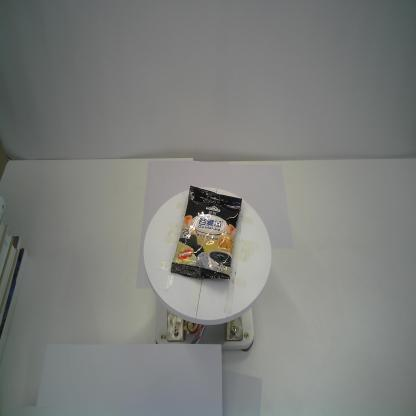Instant Drink: (170, 184, 242, 280)
